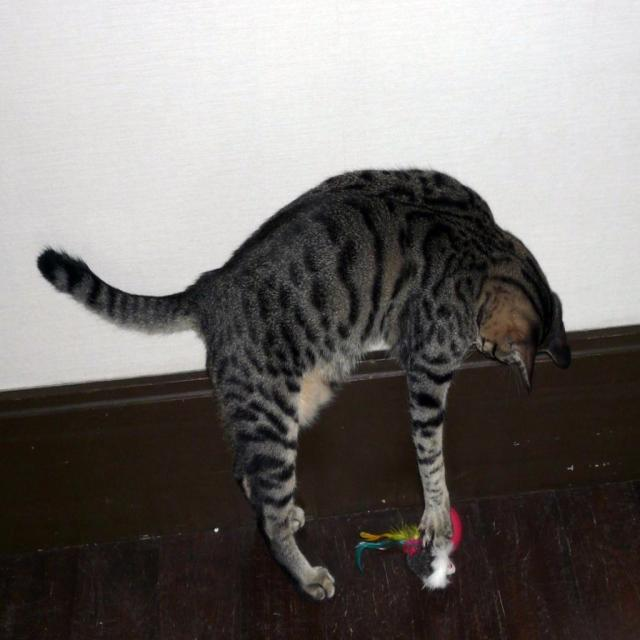Cat: (35, 163, 571, 601)
